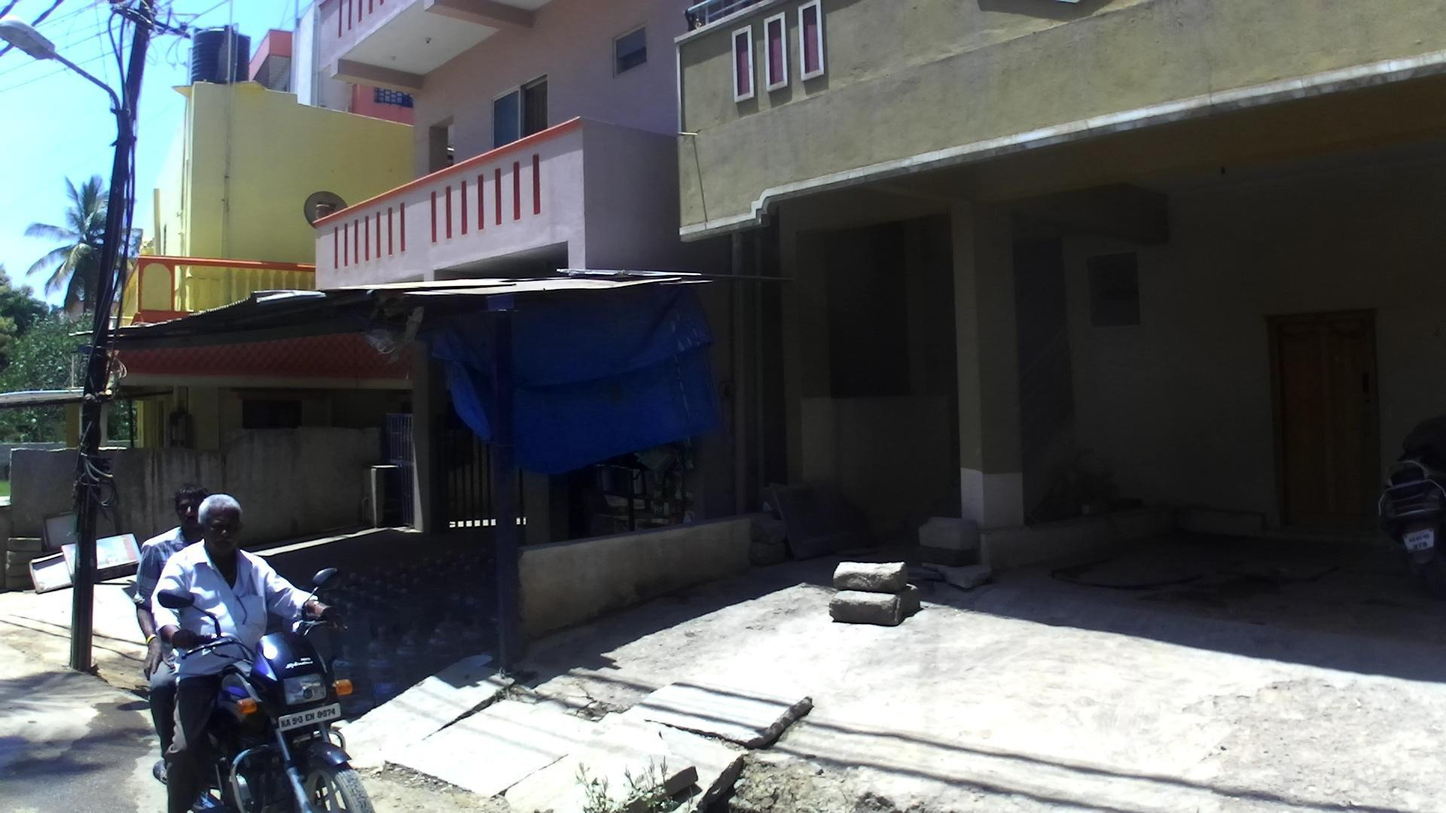streetlight: (1, 23, 136, 161)
